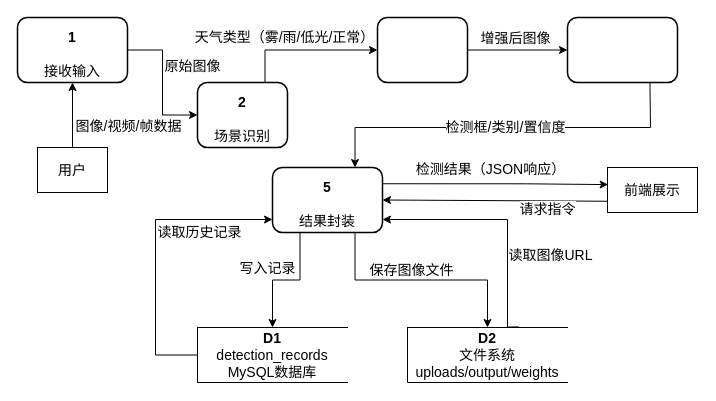
The diagram is 716 pixels wide and 401 high, and some of its shapes have lost their labels. The centre of each missing label's shape, as x and y in pixels:
"3 图像增强" goes at point (422, 49).
"4 车辆检测" goes at point (622, 49).
